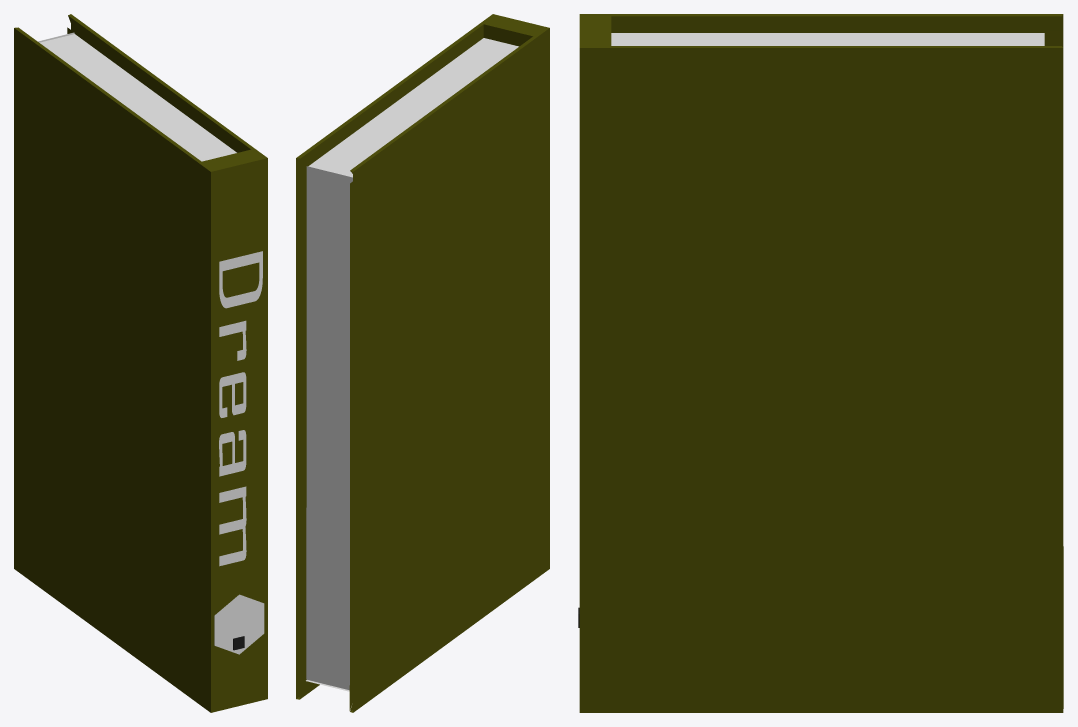
File: Book_Dream.fbx
3 views of the same model, side by side, from view 1: azimuth 30°, elevation 25°; view 2: azimuth 150°, elevation 25°; view 3: azimuth 270°, elevation 25° (orthographic). The views are drawn at different scales.
Visible parts, largest first — view 1: Book, Text, Cylinder; view 2: Book; view 3: Book.
Boxes of the visible parts, box(x1,y1,x2,y2) form: Book: box(14, 14, 267, 712); Text: box(219, 251, 262, 566); Cylinder: box(214, 594, 264, 654); Book: box(296, 14, 549, 712); Book: box(579, 14, 1063, 712).
Size of the model in its own units: 6.67 by 60.59 by 40.09.
